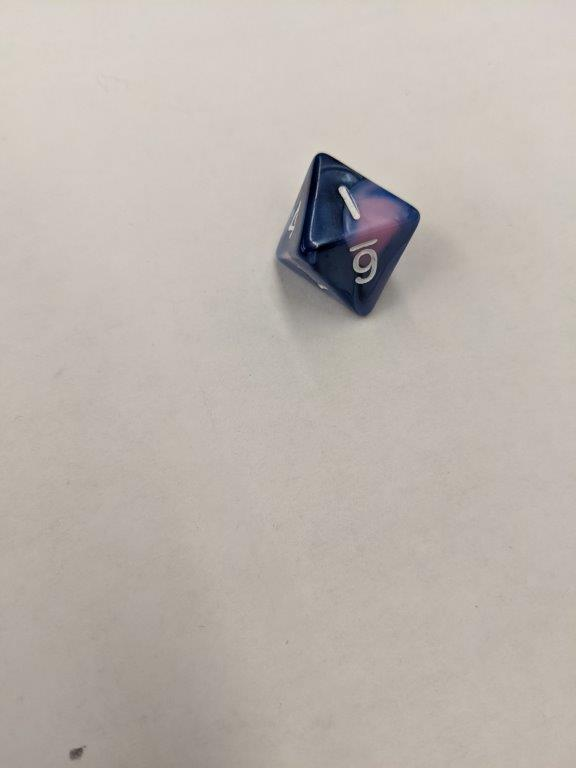d8-1: (274, 152, 422, 317)
